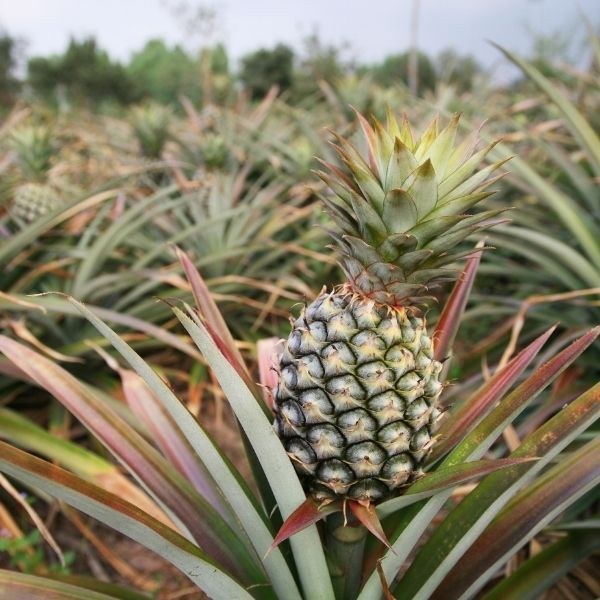pineapple: (277, 102, 490, 536)
